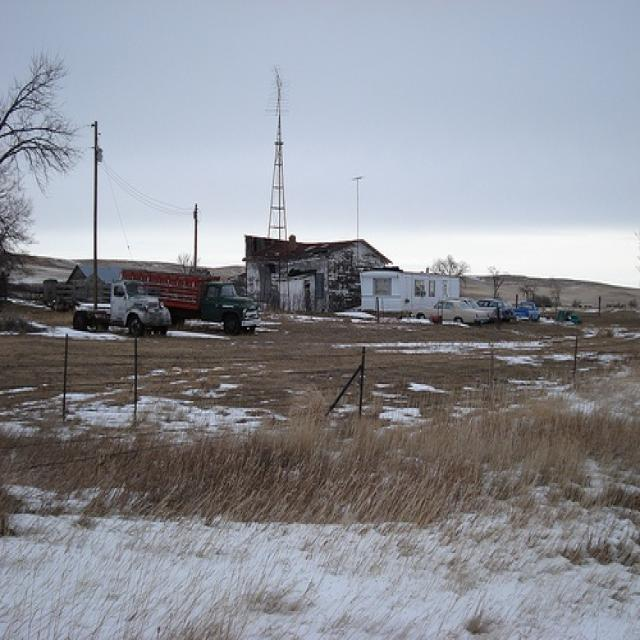car: (410, 297, 492, 326)
